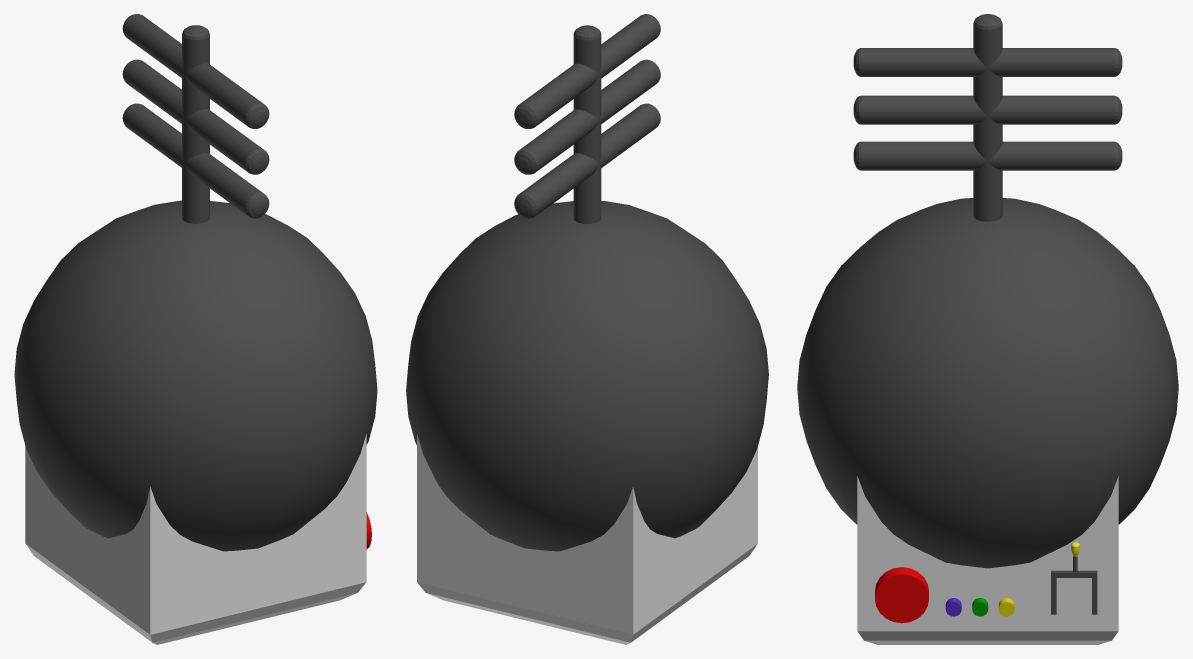
The model's file is machine.fbx.
3 views of the same model, side by side, from view 1: azimuth 30°, elevation 25°; view 2: azimuth 150°, elevation 25°; view 3: azimuth 270°, elevation 25° (orthographic). The views are drawn at different scales.
Visible parts, largest first — view 1: machine; view 2: machine; view 3: machine.
Boxes of the visible parts, x1,y1,x2,y2 form: machine: [14, 14, 377, 644]; machine: [406, 14, 768, 644]; machine: [797, 14, 1178, 644].
Size of the model in its own units: 0.9384 by 1.62 by 0.9384.
